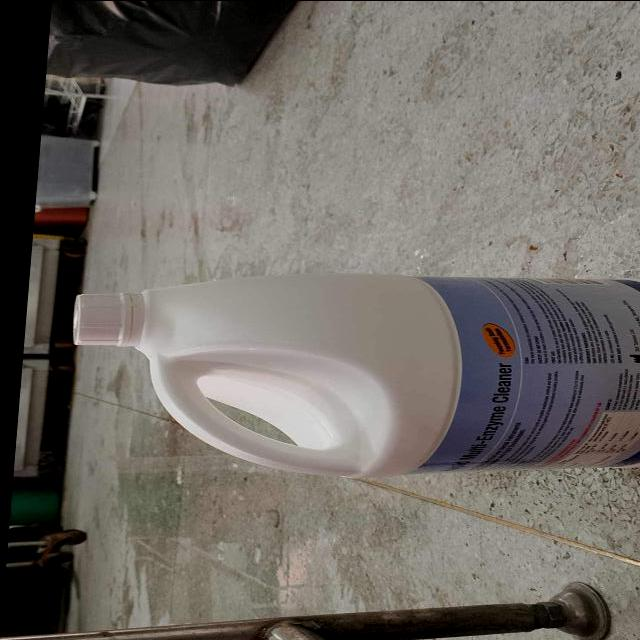Infectious: (71, 272, 638, 480)
